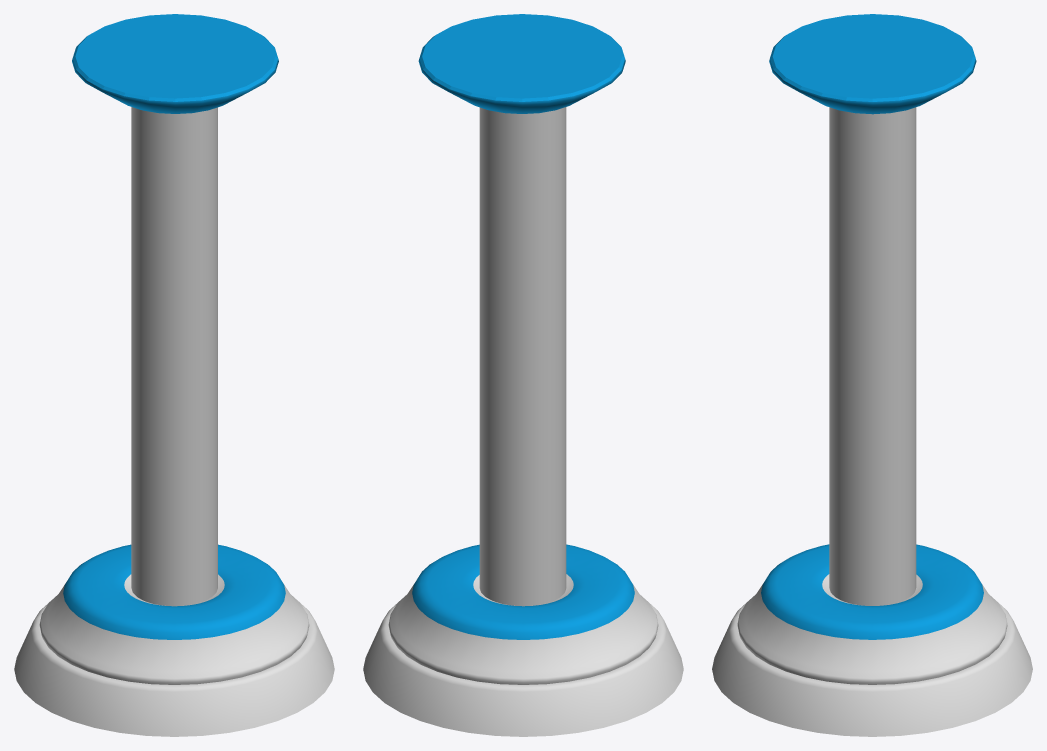
The model's file is baseElevator.FBX.
The picture shows the model from 3 angles, left to right: view 1: azimuth 30°, elevation 25°; view 2: azimuth 150°, elevation 25°; view 3: azimuth 270°, elevation 25°; orthographic projection.
Parts seen in each view (by area): view 1: Cylinder064, Cylinder065, Cylinder066; view 2: Cylinder065, Cylinder064, Cylinder066; view 3: Cylinder064, Cylinder065, Cylinder066.
Boxes of the visible parts, <box> form: Cylinder064: <box>14,544,334,736</box>; Cylinder065: <box>131,107,217,606</box>; Cylinder066: <box>72,14,278,113</box>; Cylinder065: <box>479,107,566,606</box>; Cylinder064: <box>363,544,683,736</box>; Cylinder066: <box>418,14,625,113</box>; Cylinder064: <box>712,544,1032,736</box>; Cylinder065: <box>829,107,916,605</box>; Cylinder066: <box>769,14,976,114</box>.
Bounding box in the file's own units: 131 × 277 × 131.
1 material, 1 textured.
